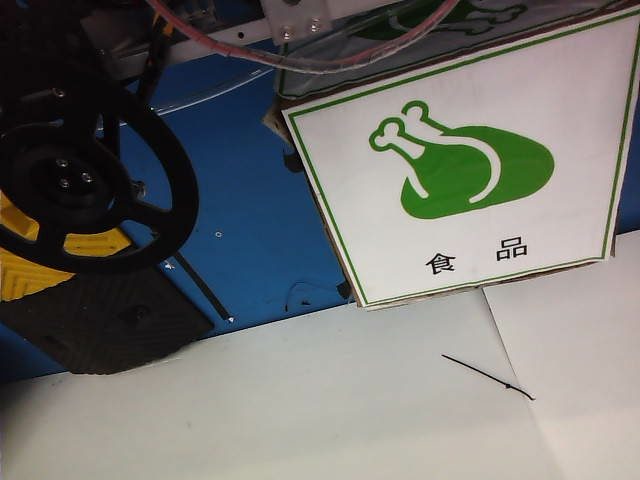Cube_food: (358, 91, 570, 281)
